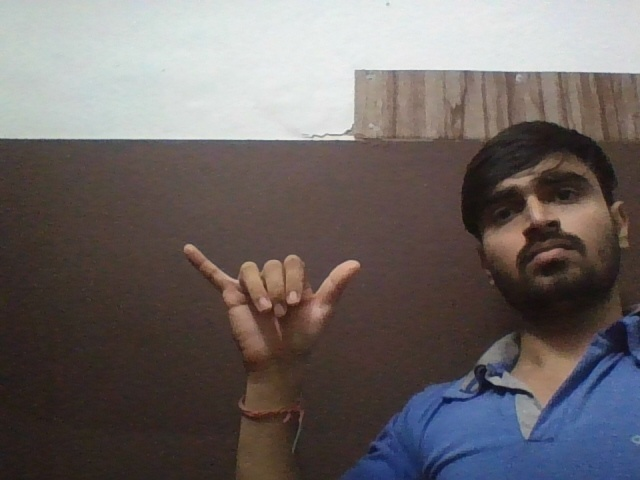Y: (181, 242, 366, 361)
